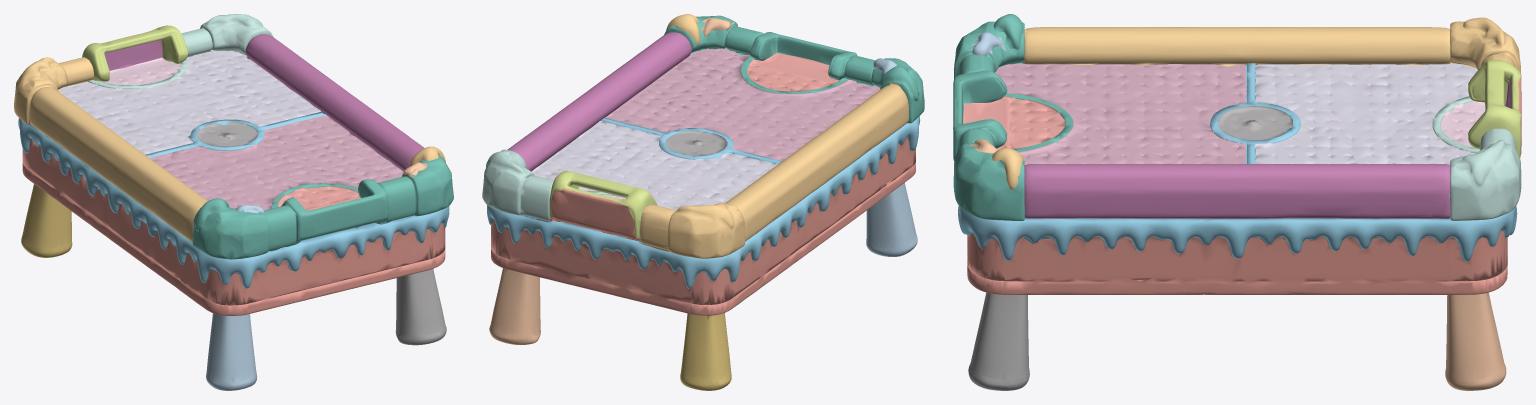
File: table-ice.glb
3 renders of one model, left to right at view 1: azimuth 30°, elevation 25°; view 2: azimuth 150°, elevation 25°; view 3: azimuth 270°, elevation 25°, orthographic. The views are drawn at different scales.
Visible parts, largest first — view 1: tripo_part_1, tripo_part_11, tripo_part_10, tripo_part_3, tripo_part_2, tripo_part_0, tripo_part_8, tripo_part_5, tripo_part_4, tripo_part_12, tripo_part_7, tripo_part_9 (+7 smaller); view 2: tripo_part_1, tripo_part_10, tripo_part_3, tripo_part_11, tripo_part_0, tripo_part_8, tripo_part_2, tripo_part_7, tripo_part_12, tripo_part_6, tripo_part_5, tripo_part_16 (+6 smaller); view 3: tripo_part_1, tripo_part_8, tripo_part_10, tripo_part_3, tripo_part_11, tripo_part_0, tripo_part_2, tripo_part_7, tripo_part_6, tripo_part_4, tripo_part_9, tripo_part_13 (+7 smaller).
Boxes of the visible parts, <box> form: tripo_part_1: <box>22,138,445,315</box>; tripo_part_11: <box>59,50,321,154</box>; tripo_part_10: <box>150,116,403,210</box>; tripo_part_3: <box>14,57,207,242</box>; tripo_part_2: <box>192,153,453,259</box>; tripo_part_0: <box>18,118,449,288</box>; tripo_part_8: <box>245,34,423,171</box>; tripo_part_5: <box>206,313,257,390</box>; tripo_part_4: <box>395,269,446,345</box>; tripo_part_12: <box>21,184,72,257</box>; tripo_part_7: <box>181,14,273,57</box>; tripo_part_9: <box>82,25,188,81</box>; tripo_part_1: <box>491,137,915,315</box>; tripo_part_10: <box>606,48,880,160</box>; tripo_part_3: <box>640,83,908,258</box>; tripo_part_11: <box>531,120,777,210</box>; tripo_part_0: <box>487,116,920,288</box>; tripo_part_8: <box>507,32,692,171</box>; tripo_part_2: <box>664,15,924,123</box>; tripo_part_7: <box>482,149,553,222</box>; tripo_part_12: <box>680,313,731,390</box>; tripo_part_6: <box>489,268,540,344</box>; tripo_part_5: <box>866,183,917,256</box>; tripo_part_16: <box>550,188,641,241</box>; tripo_part_1: <box>967,230,1507,294</box>; tripo_part_8: <box>1024,163,1450,218</box>; tripo_part_10: <box>995,63,1246,164</box>; tripo_part_3: <box>1023,17,1521,74</box>; tripo_part_11: <box>1255,63,1477,164</box>; tripo_part_0: <box>958,206,1517,261</box>; tripo_part_2: <box>953,21,1073,220</box>; tripo_part_7: <box>1449,128,1521,220</box>; tripo_part_6: <box>1445,292,1506,390</box>; tripo_part_4: <box>968,292,1029,390</box>; tripo_part_9: <box>1468,60,1521,157</box>; tripo_part_13: <box>963,96,1065,149</box>.
Bounding box in the file's own units: 0.6407 × 0.4579 × 0.979.
